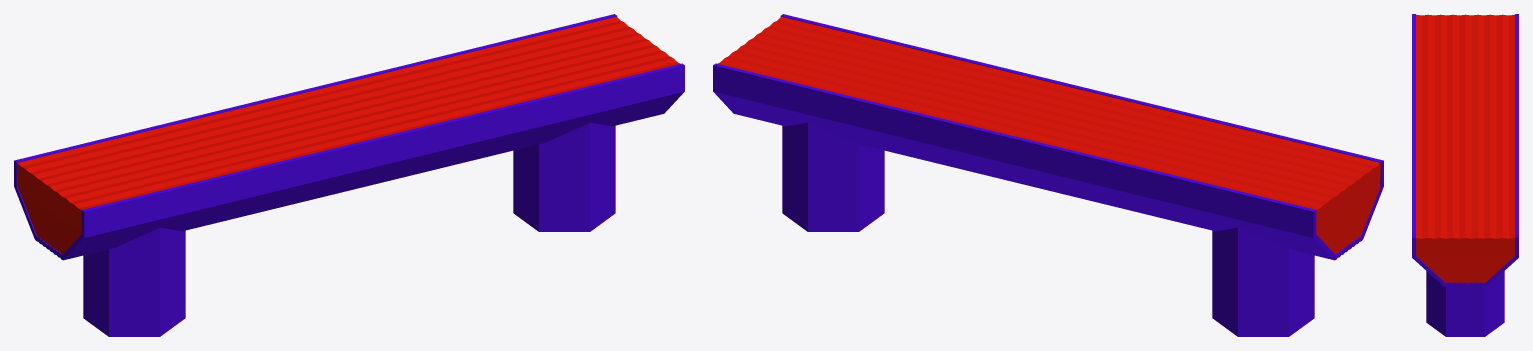
The model's file is bench_high.fbx.
The picture shows the model from 3 angles, left to right: view 1: azimuth 30°, elevation 25°; view 2: azimuth 150°, elevation 25°; view 3: azimuth 270°, elevation 25°; orthographic projection. The views are drawn at different scales.
Visible parts, largest first — view 1: Bench_Log_high; view 2: Bench_Log_high; view 3: Bench_Log_high.
Boxes of the visible parts, x1=… form: Bench_Log_high: x1=14, y1=14, x2=684, y2=336; Bench_Log_high: x1=713, y1=14, x2=1383, y2=336; Bench_Log_high: x1=1412, y1=14, x2=1518, y2=336.
Size of the model in its own units: 200 by 48.64 by 40.41.
